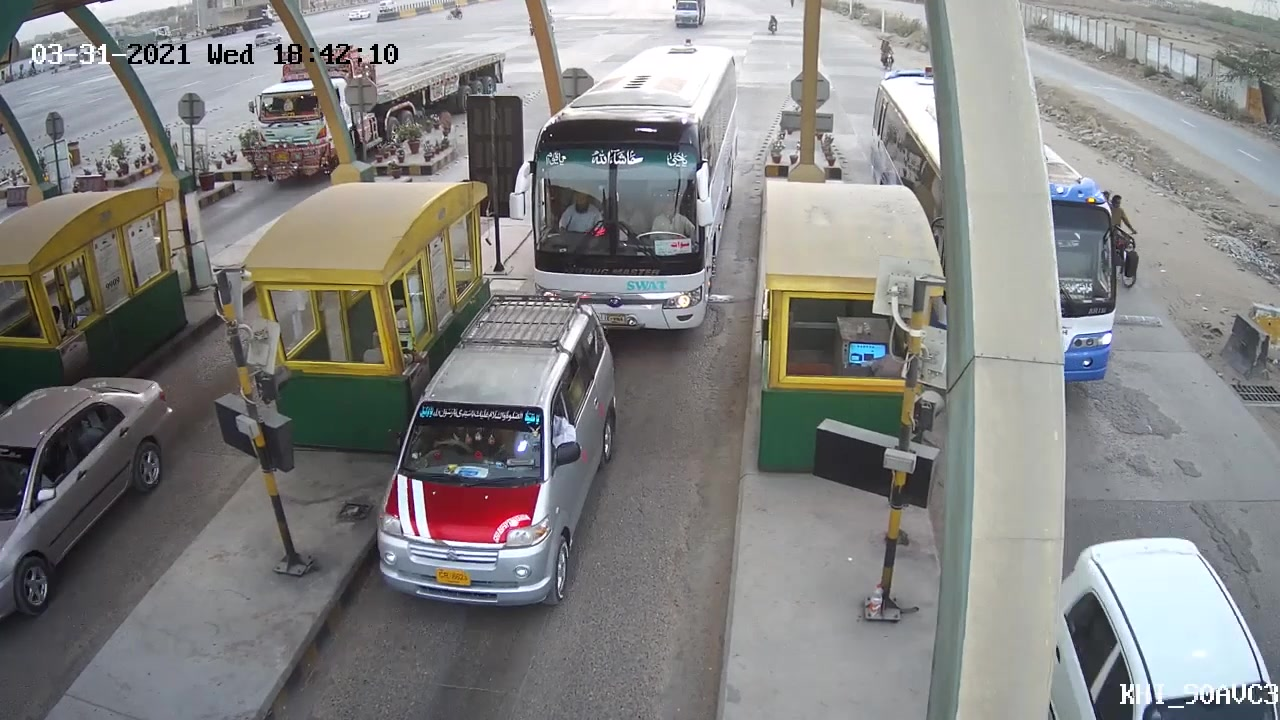F1: (368, 294, 627, 611)
F4: (525, 29, 743, 345)
